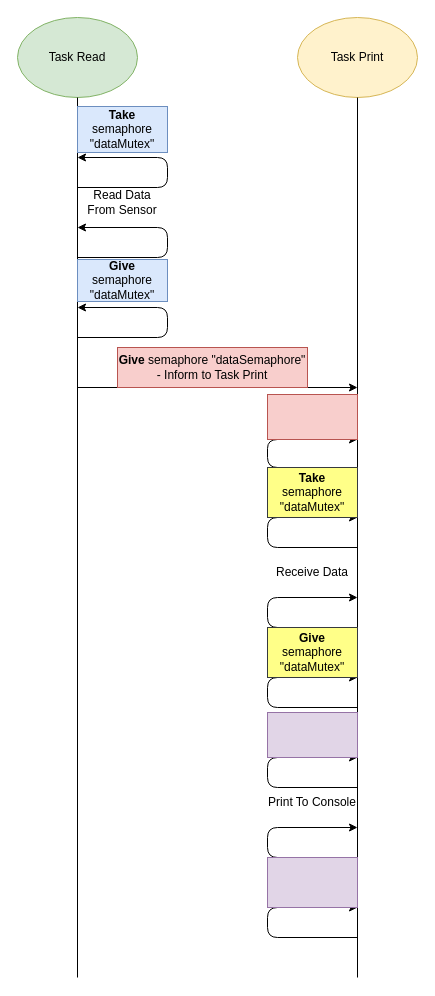
Some shapes in this 435 by 996 pixel diagram are drawn without their labels. Each missing label, with the centre of its shape:
Give semaphore "SerialMutex": (312,882)
Take semaphore " dataSemaphore " - Wake up: (312,417)
Take semaphore "SerialMutex": (312,735)
